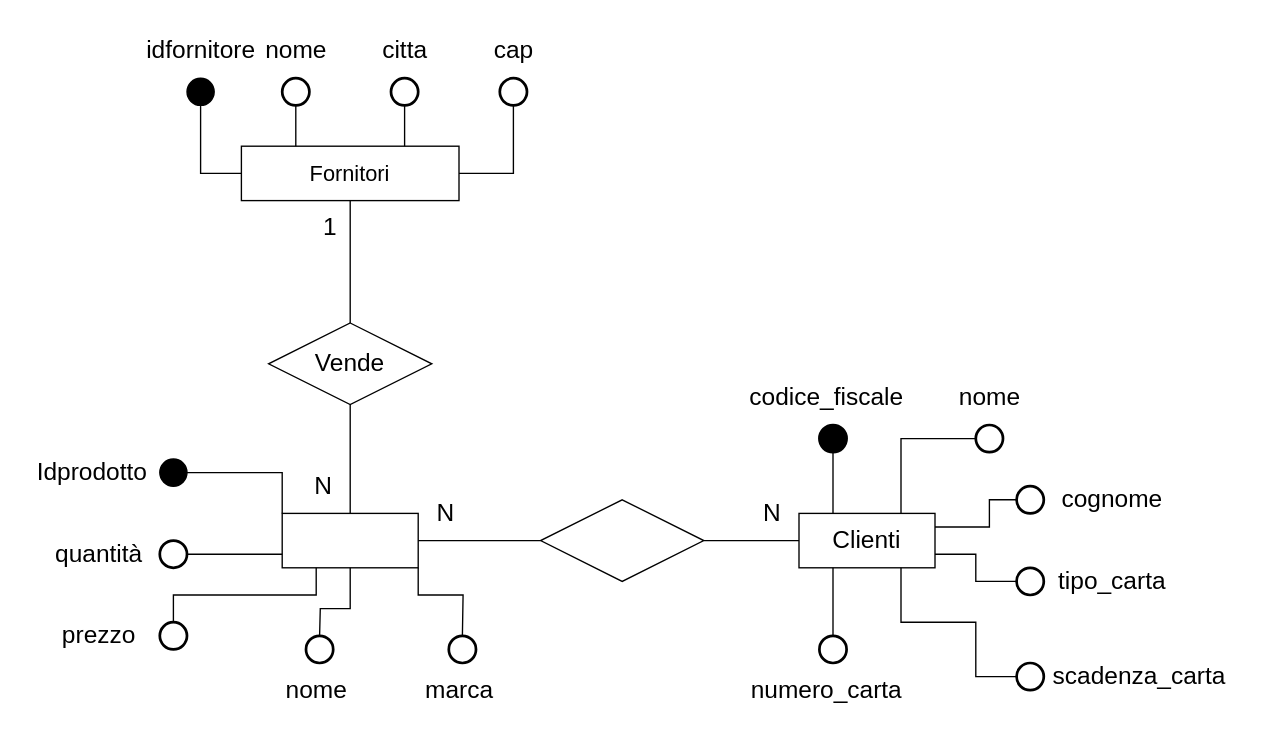
The diagram is 1263 pixels wide and 740 high, and some of its shapes have lost their labels. Each missing label, with the centre of its shape:
"Acquisti" goes at [621,539].
"Prodotti" goes at [349,540].
